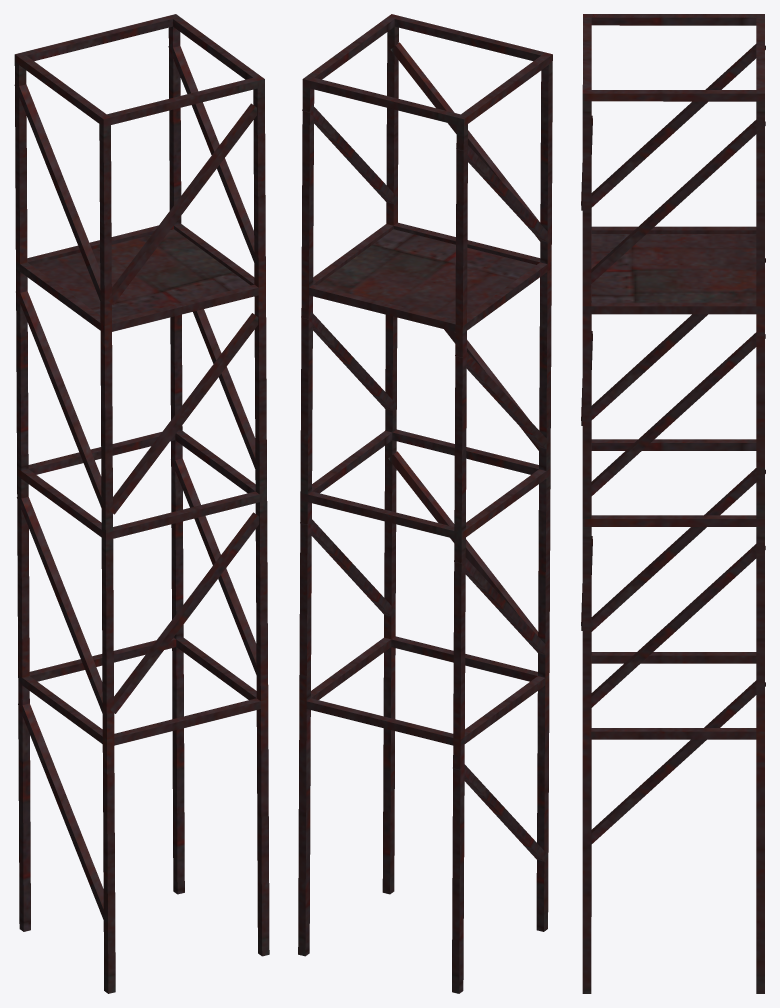
The model's file is LoveDeath_Structure_Art.glb.
3 views of the same model, side by side, from view 1: azimuth 30°, elevation 25°; view 2: azimuth 150°, elevation 25°; view 3: azimuth 270°, elevation 25° (orthographic). The views are drawn at different scales.
Visible parts, largest first — view 1: LoveDeath_Structure_Art; view 2: LoveDeath_Structure_Art; view 3: LoveDeath_Structure_Art.
Part boxes in pixels (x1,y1,x2,y2): LoveDeath_Structure_Art: (14,14,269,993); LoveDeath_Structure_Art: (298,14,552,993); LoveDeath_Structure_Art: (581,14,765,993).
Bounding box in the file's own units: 2.26 × 11.43 × 2.13.
1 material, 1 textured.
